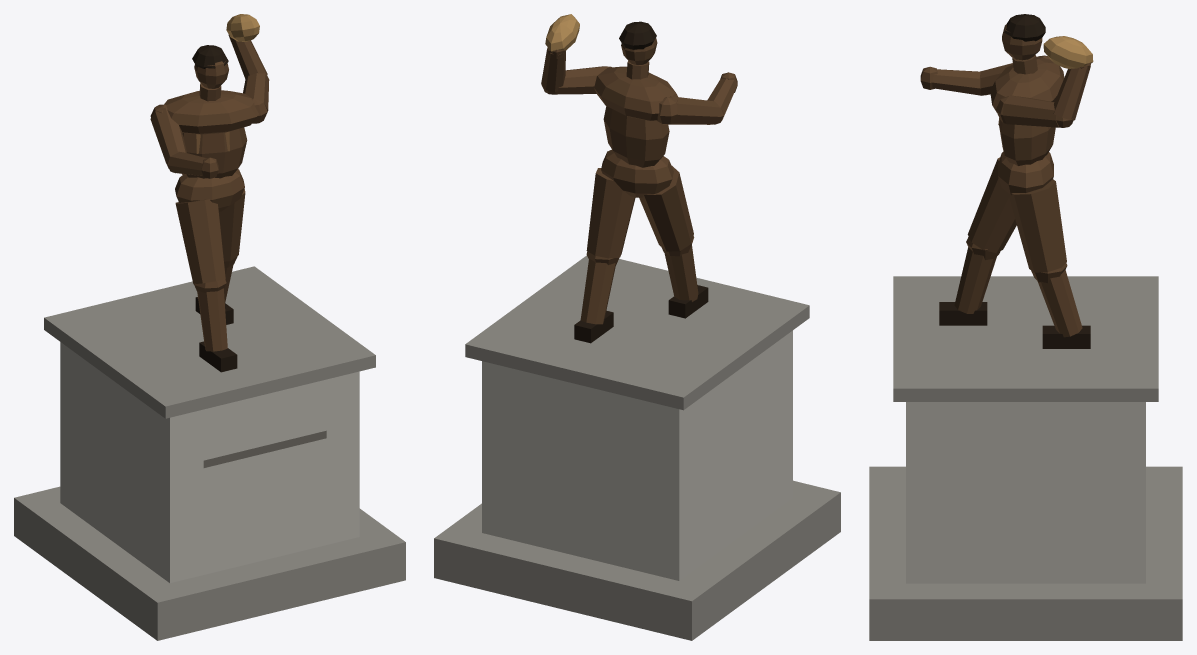
Rendered from agganis-statue.glb.
The picture shows the model from 3 angles, left to right: view 1: azimuth 30°, elevation 25°; view 2: azimuth 150°, elevation 25°; view 3: azimuth 270°, elevation 25°; orthographic projection. The views are drawn at different scales.
Parts seen in each view (by area): view 1: agganis-statue; view 2: agganis-statue; view 3: agganis-statue.
Part boxes in pixels (x1,y1,x2,y2): agganis-statue: (14, 14, 405, 640); agganis-statue: (434, 14, 840, 640); agganis-statue: (869, 14, 1182, 640).
Size of the model in its own units: 1.7 by 3.39 by 1.7.
